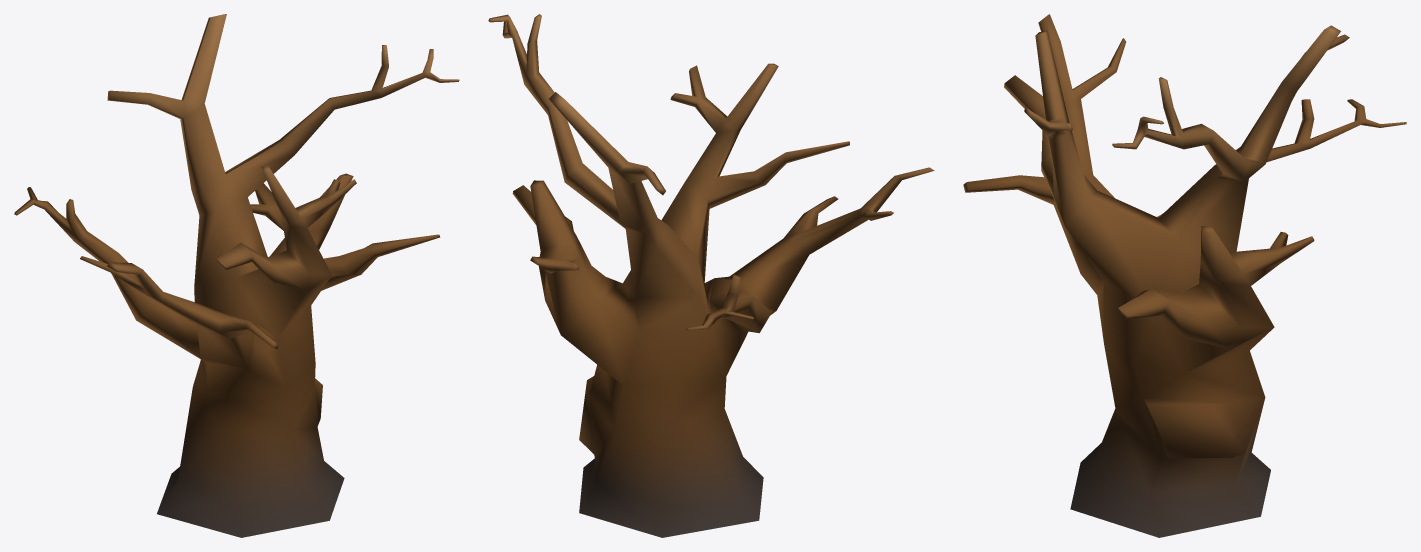
The model's file is deco_treeDead_A.FBX.
3 renders of one model, left to right at view 1: azimuth 30°, elevation 25°; view 2: azimuth 150°, elevation 25°; view 3: azimuth 270°, elevation 25°, orthographic. The views are drawn at different scales.
Visible parts, largest first — view 1: deco_treeDead_A; view 2: deco_treeDead_A; view 3: deco_treeDead_A.
Boxes of the visible parts, x1,y1,x2,y2 form: deco_treeDead_A: [14, 14, 459, 537]; deco_treeDead_A: [488, 14, 934, 537]; deco_treeDead_A: [963, 14, 1406, 537].
Bounding box in the file's own units: 3.61 × 3.83 × 3.18.
Materials: 1 (1 with a texture image).
